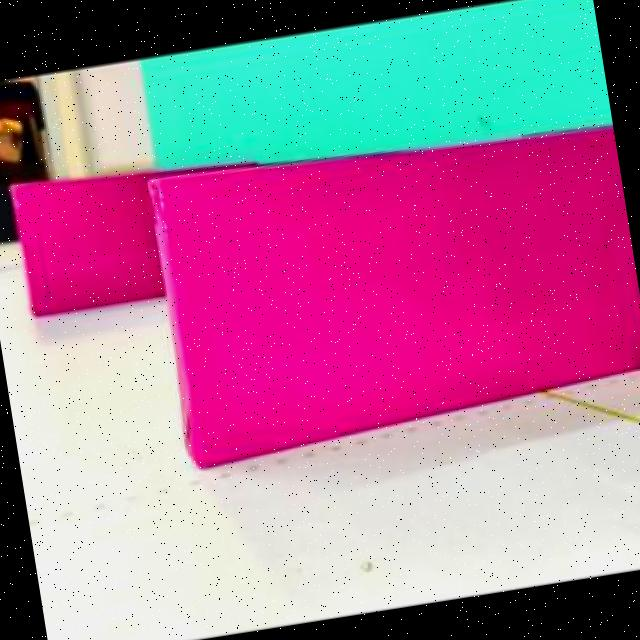xparking: (157, 126, 640, 466), (10, 171, 164, 319)
